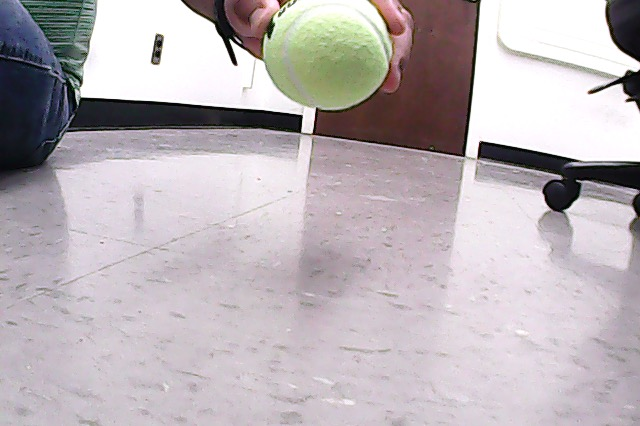ball: (263, 2, 393, 112)
